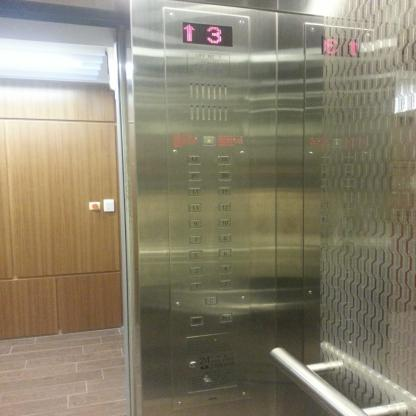1: (189, 282, 203, 291)
10: (218, 218, 232, 228)
11: (188, 203, 202, 213)
12: (218, 202, 231, 212)
13: (188, 187, 202, 197)
14: (218, 186, 231, 197)
15: (188, 171, 201, 181)
16: (218, 171, 231, 180)
17: (188, 154, 201, 165)
18: (218, 154, 230, 165)
2: (219, 279, 232, 289)
3: (189, 266, 203, 276)
4: (219, 264, 232, 274)
5: (189, 250, 203, 260)
6: (219, 249, 231, 258)
7: (188, 235, 202, 244)
8: (218, 233, 231, 243)
9: (188, 219, 202, 228)
G: (204, 296, 218, 305)
alarm: (202, 135, 216, 146)
close: (220, 312, 232, 323)
keyhole: (190, 361, 197, 368)
led: (182, 22, 233, 48)
open: (190, 315, 203, 326)
